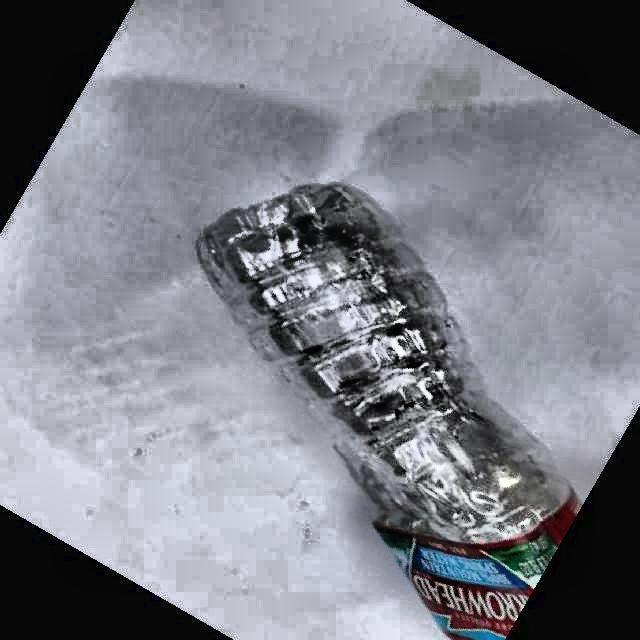plastic: (199, 184, 579, 640)
